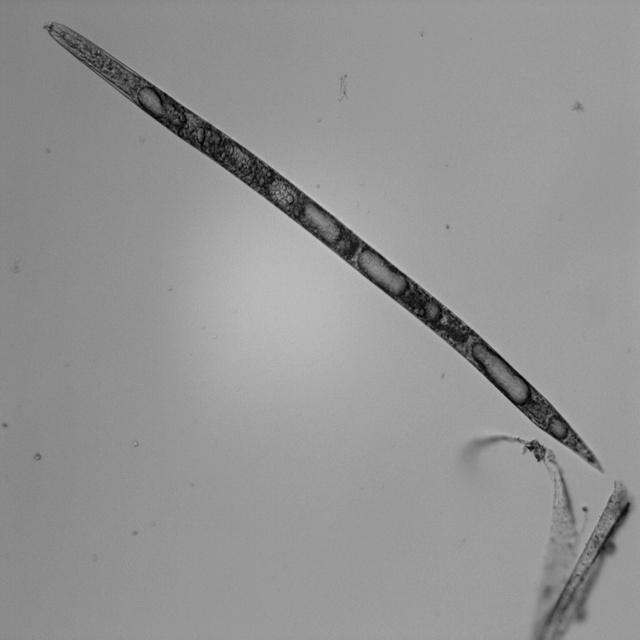Radopholus: (44, 17, 612, 480)
